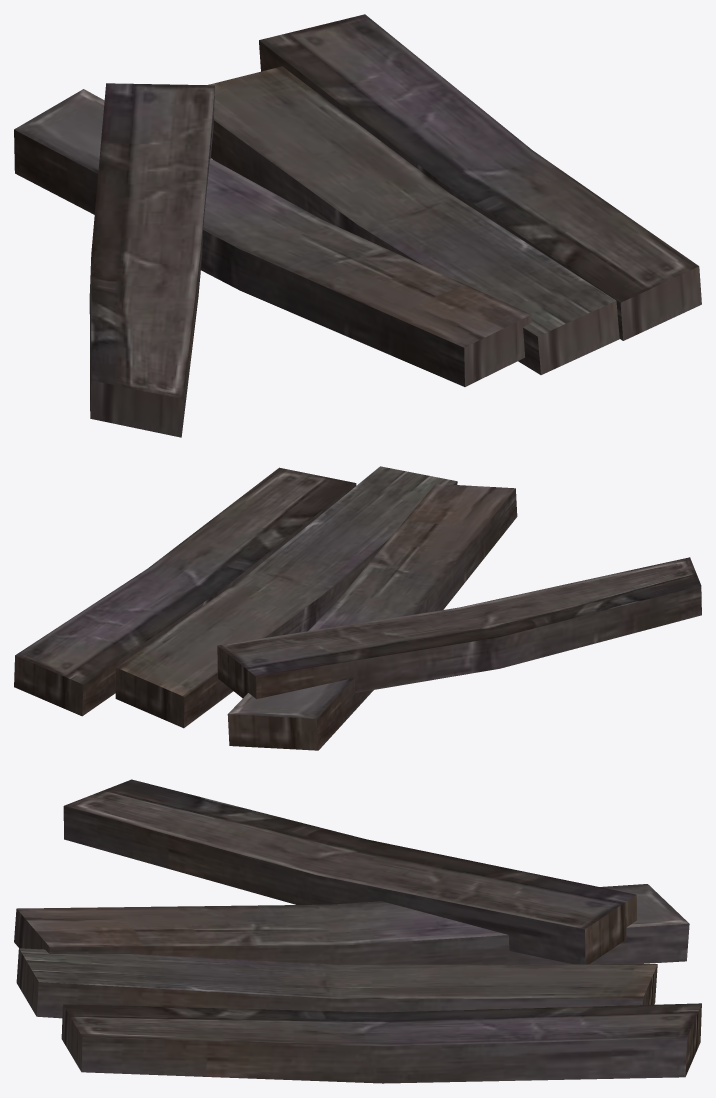
File: Battle05_Other_010.FBX
The picture shows the model from 3 angles, top to bottom: view 1: azimuth 30°, elevation 25°; view 2: azimuth 150°, elevation 25°; view 3: azimuth 270°, elevation 25°; orthographic projection. The views are drawn at different scales.
Parts seen in each view (by area): view 1: Battle05_Other_010; view 2: Battle05_Other_010; view 3: Battle05_Other_010.
Part boxes in pixels (x1=…): Battle05_Other_010: x1=14, y1=14, x2=701, y2=437; Battle05_Other_010: x1=14, y1=466, x2=701, y2=750; Battle05_Other_010: x1=14, y1=779, x2=701, y2=1083.
Size of the model in its own units: 6.02 by 0.788 by 6.85.
